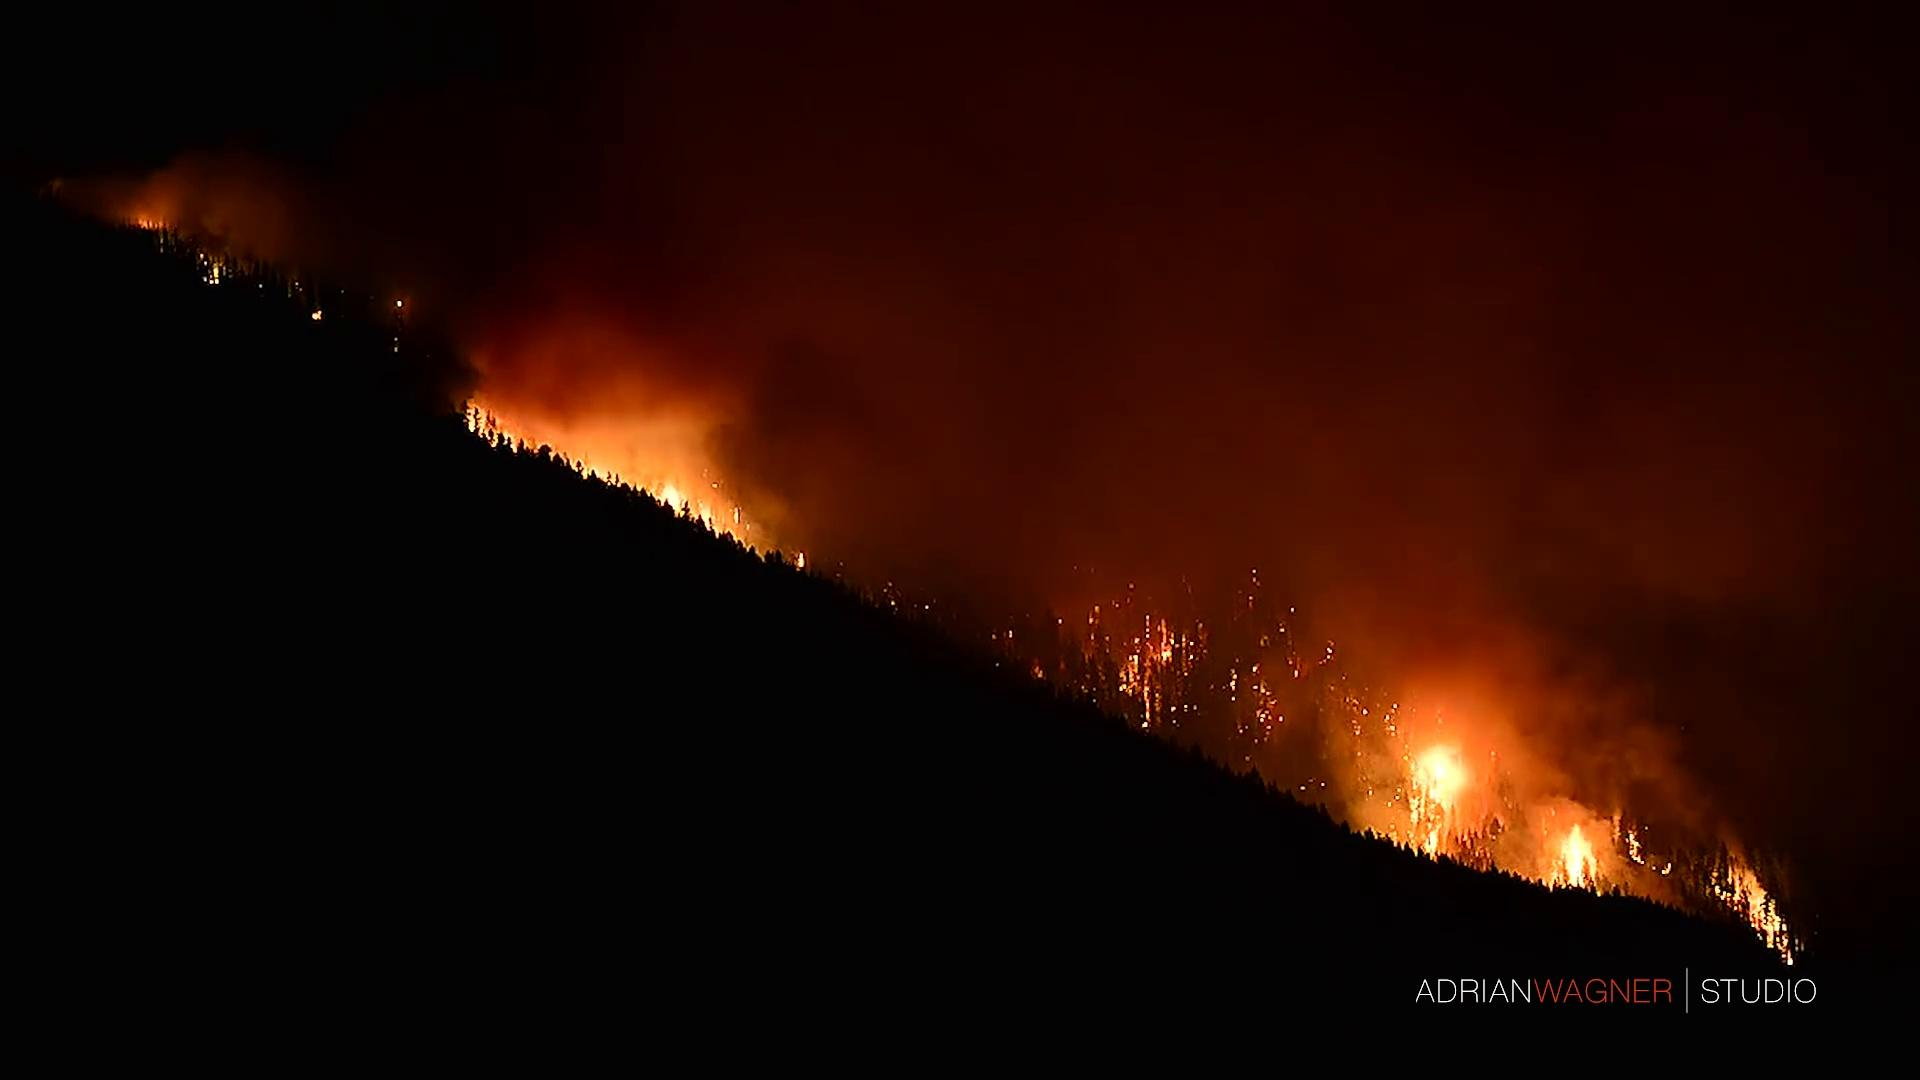fire: (1404, 748, 1468, 807), (1548, 815, 1600, 887), (650, 475, 695, 516)
